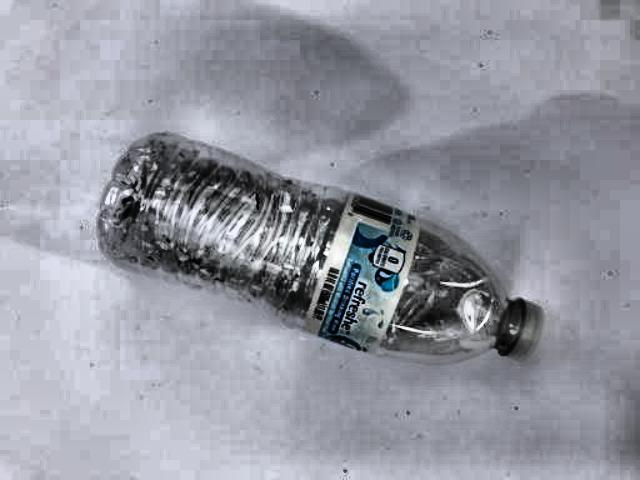Bottles: (68, 134, 549, 377)
